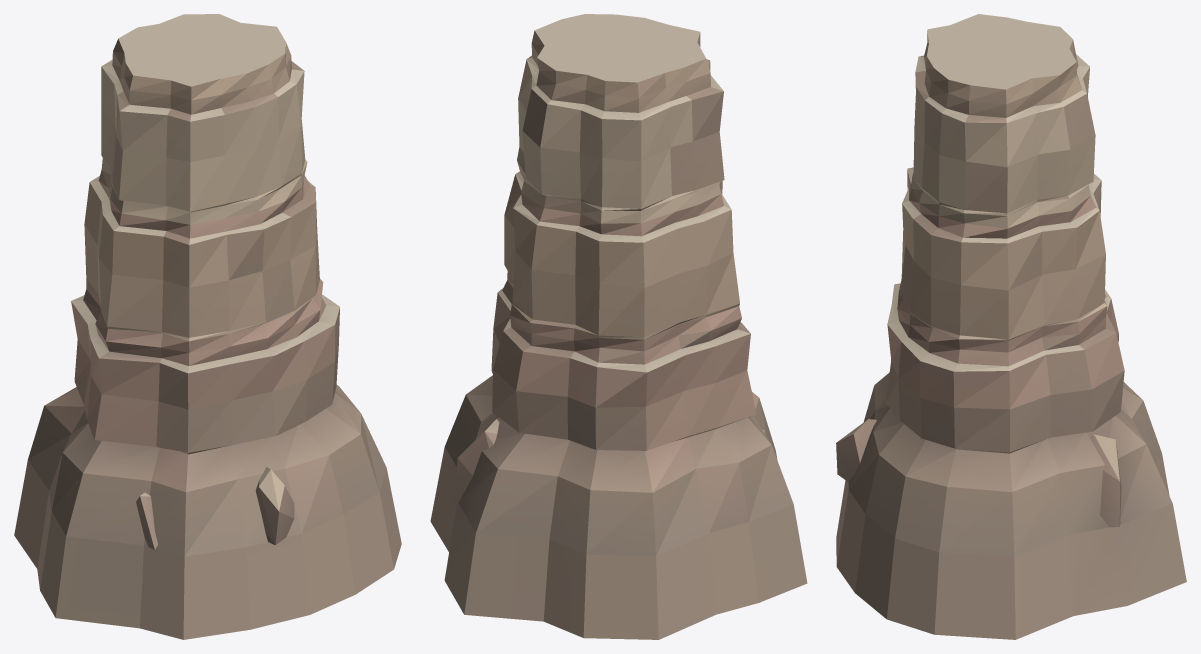
File: mesa_1.glb
The picture shows the model from 3 angles, left to right: view 1: azimuth 30°, elevation 25°; view 2: azimuth 150°, elevation 25°; view 3: azimuth 270°, elevation 25°; orthographic projection.
Bounding box in the file's own units: 23.36 × 33 × 20.86.
